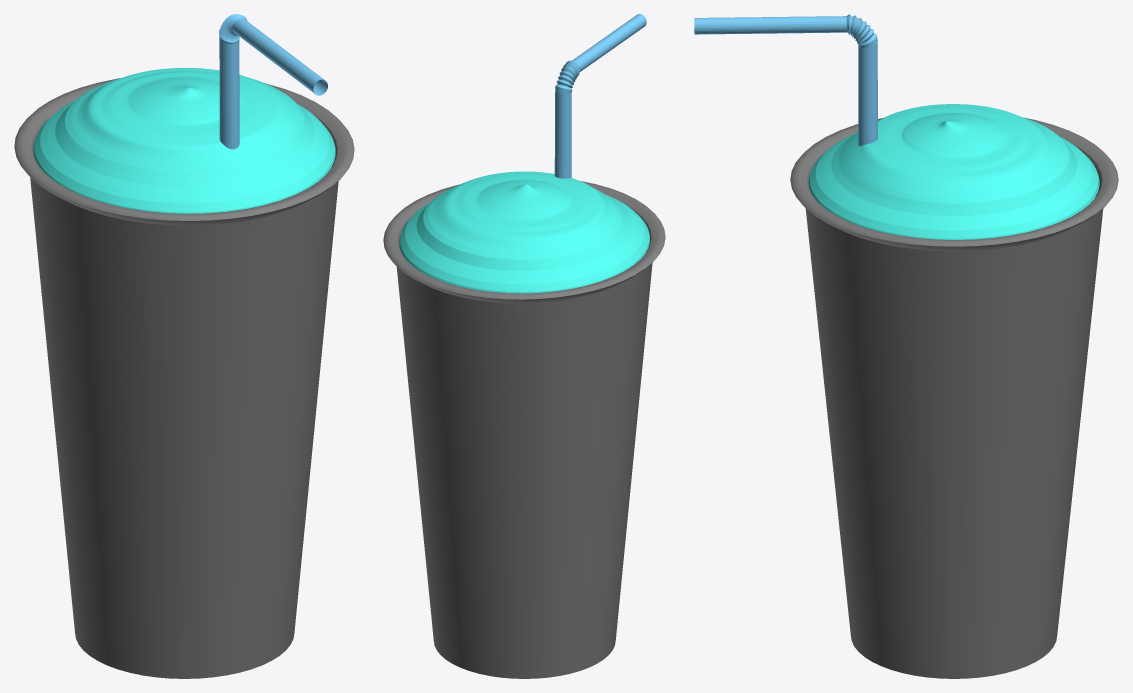
Rendered from Slush_attack_fix.fbx.
3 views of the same model, side by side, from view 1: azimuth 30°, elevation 25°; view 2: azimuth 150°, elevation 25°; view 3: azimuth 270°, elevation 25° (orthographic). The views are drawn at different scales.
Visible parts, largest first — view 1: Cylinder002; view 2: Cylinder002; view 3: Cylinder002.
Boxes of the visible parts, x1=… form: Cylinder002: x1=14, y1=14, x2=354, y2=678; Cylinder002: x1=383, y1=14, x2=665, y2=678; Cylinder002: x1=694, y1=14, x2=1118, y2=678.
Bounding box in the file's own units: 25.67 × 55.32 × 34.34.
